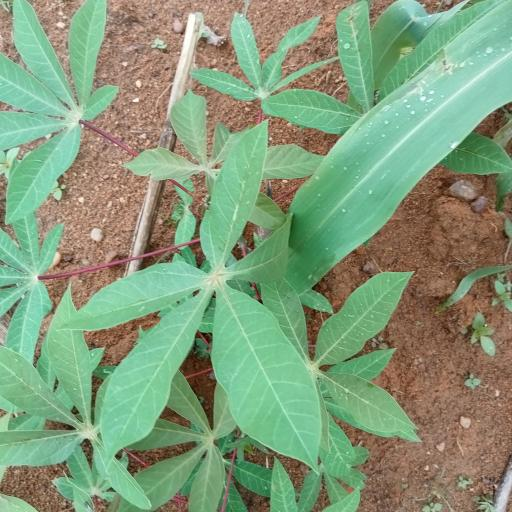Cassava_Mosaic: (90, 132, 309, 446)
